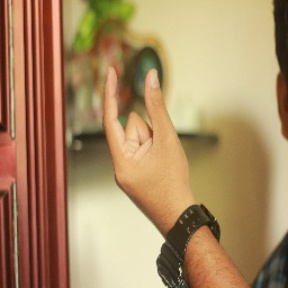U: (97, 62, 189, 197)
